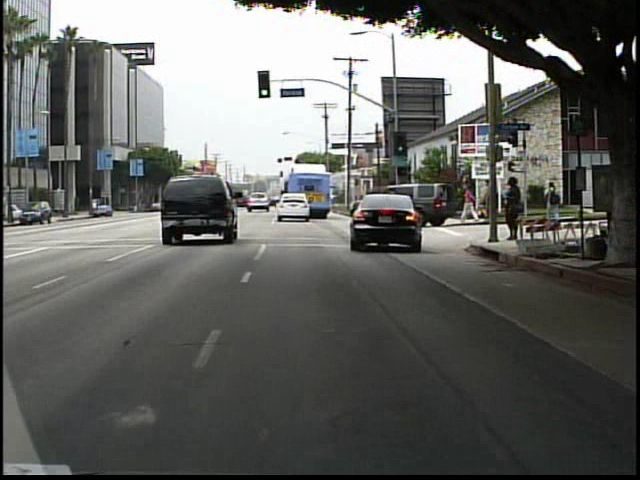person: (501, 173, 524, 249), (461, 180, 482, 228), (544, 180, 564, 221), (481, 179, 497, 223)
